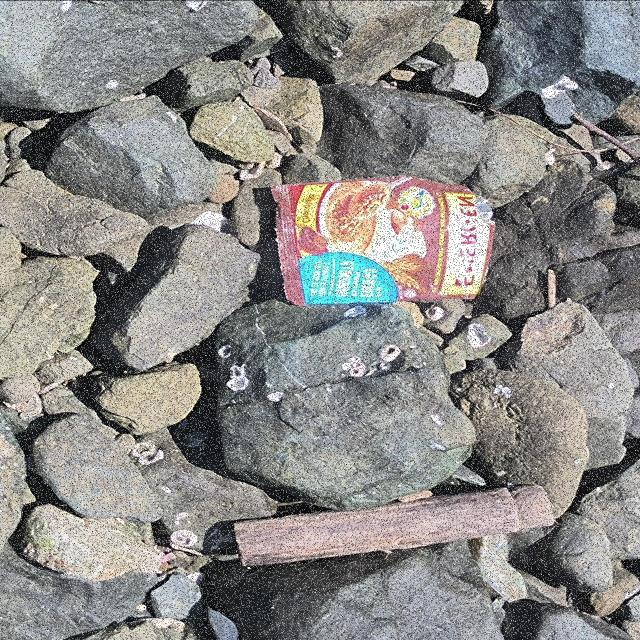plastic_waste: (269, 173, 495, 307)
wood_waste: (233, 485, 554, 567)
